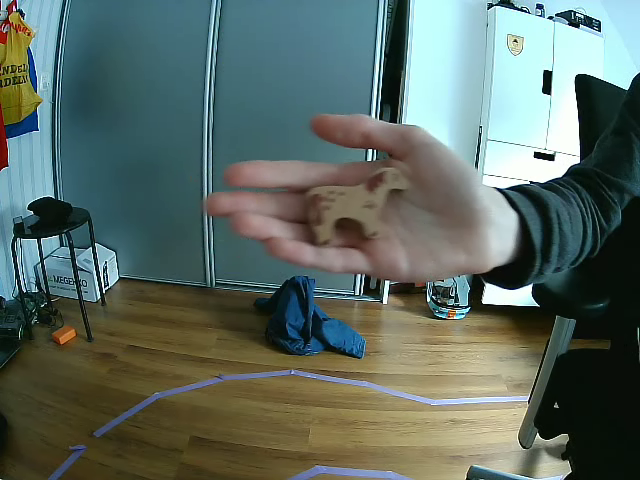paard: (310, 167, 408, 246)
